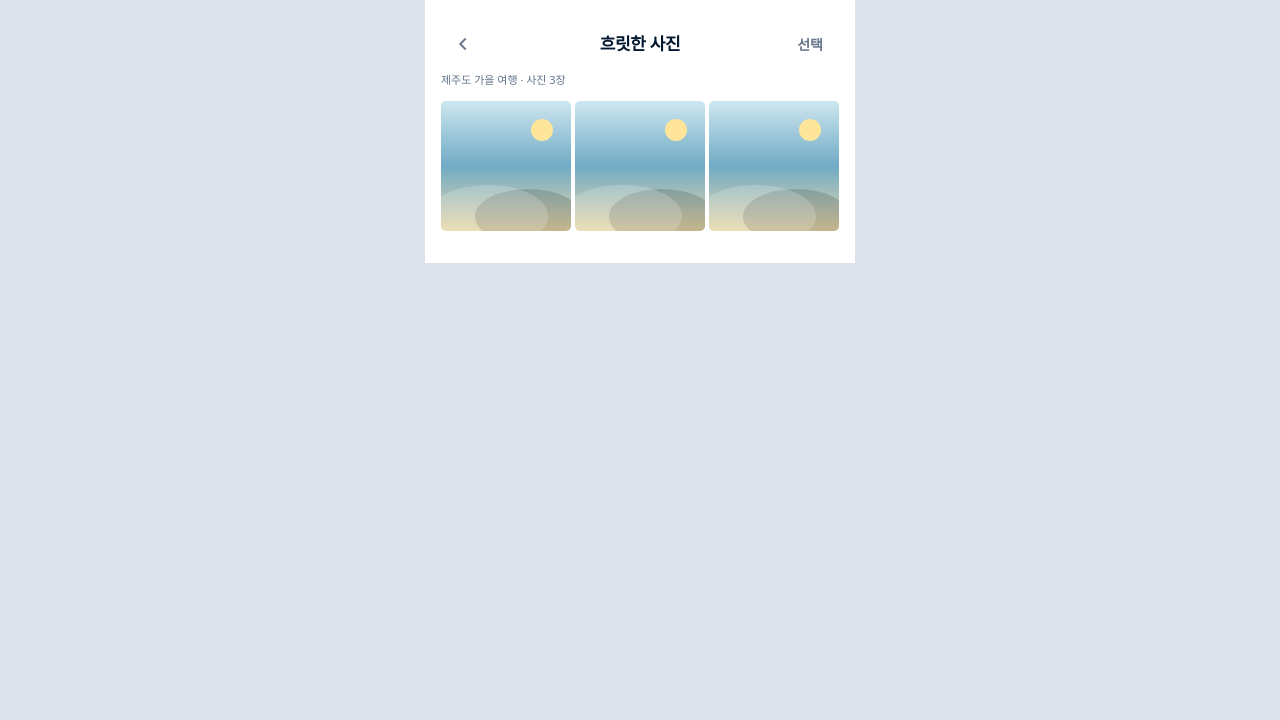
Scenario: UnclassifiedPhotoListPage › 상세보기 메뉴에서 현재 사진만 해제하고 뷰어를 닫는다
The width and height of the screenshot is (1280, 720).
Click the button named "2번째 사진 상세보기" at (640, 166), box [575,100,705,230]
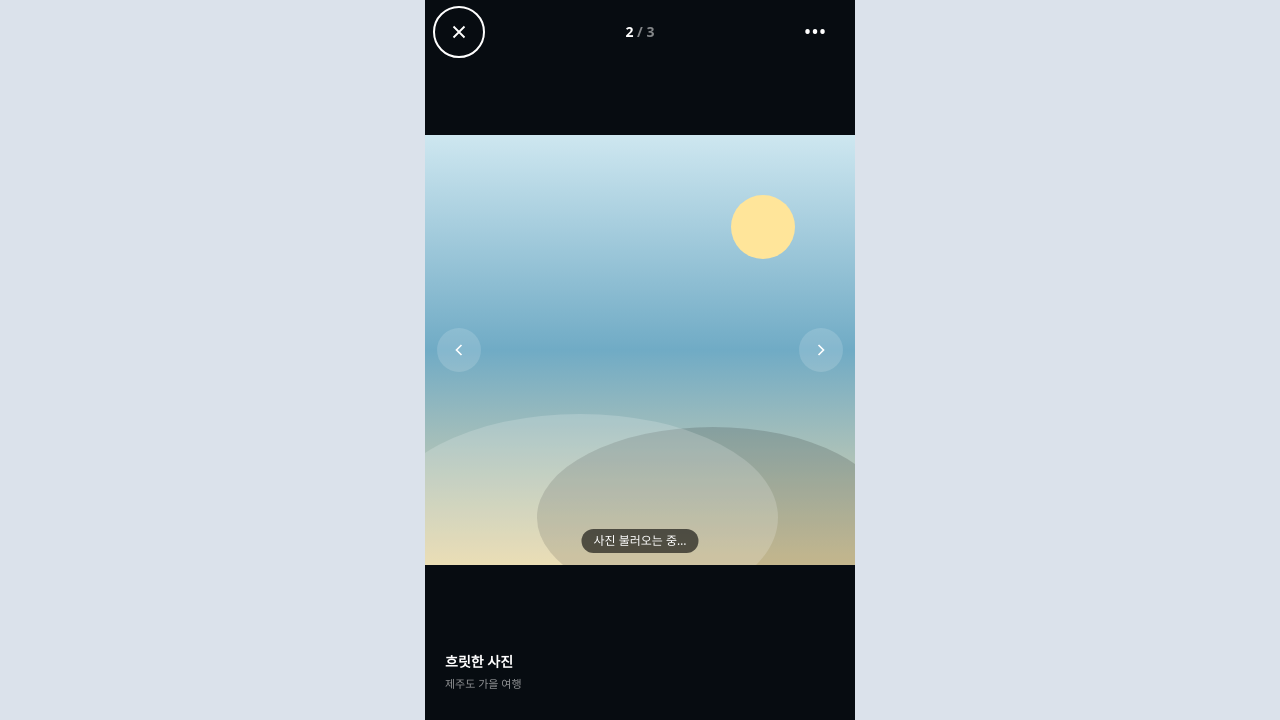
Click the button named "사진 더보기 메뉴" at (815, 32), box [795,12,835,52]
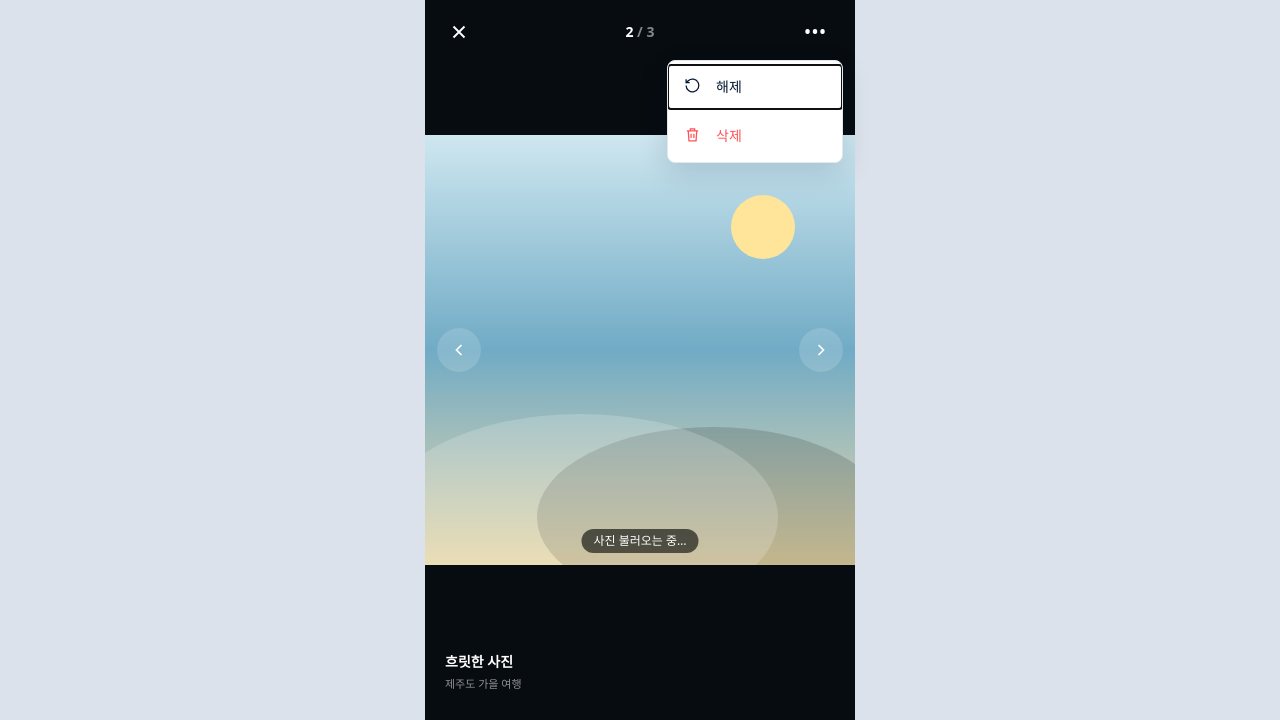
Now the menu item "삭제" is shown, box [668,114,842,158]
Click the menu item "해제" at (755, 87), box [668,65,842,109]
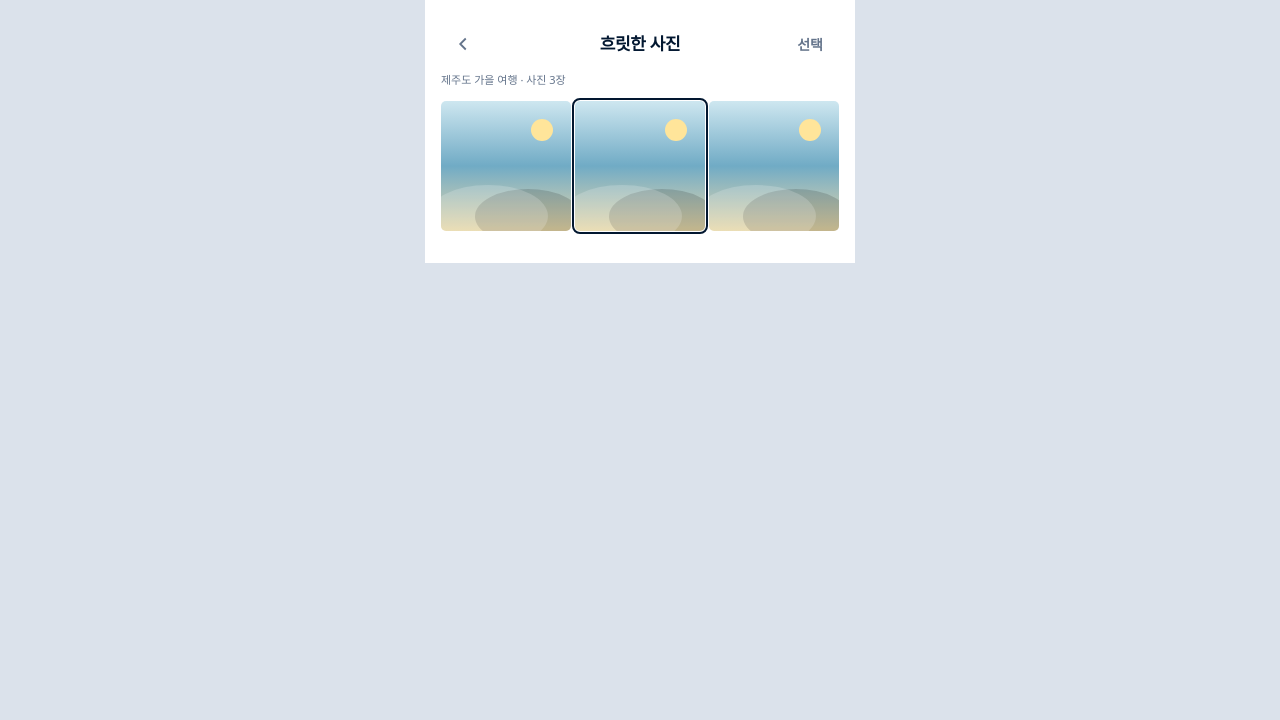
Now the dialog is gone
